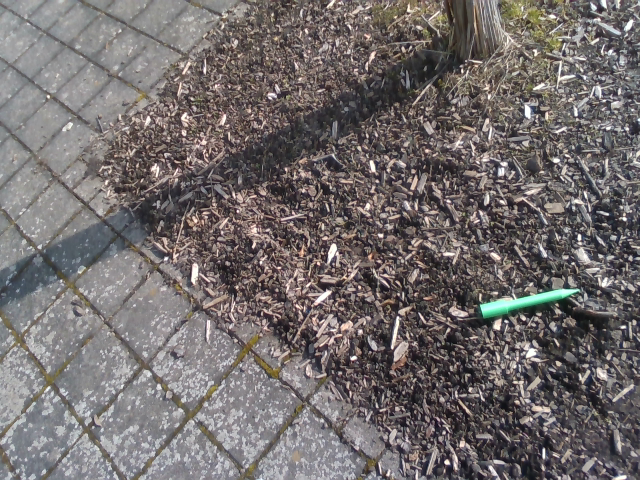Probe: (474, 282, 586, 324)
